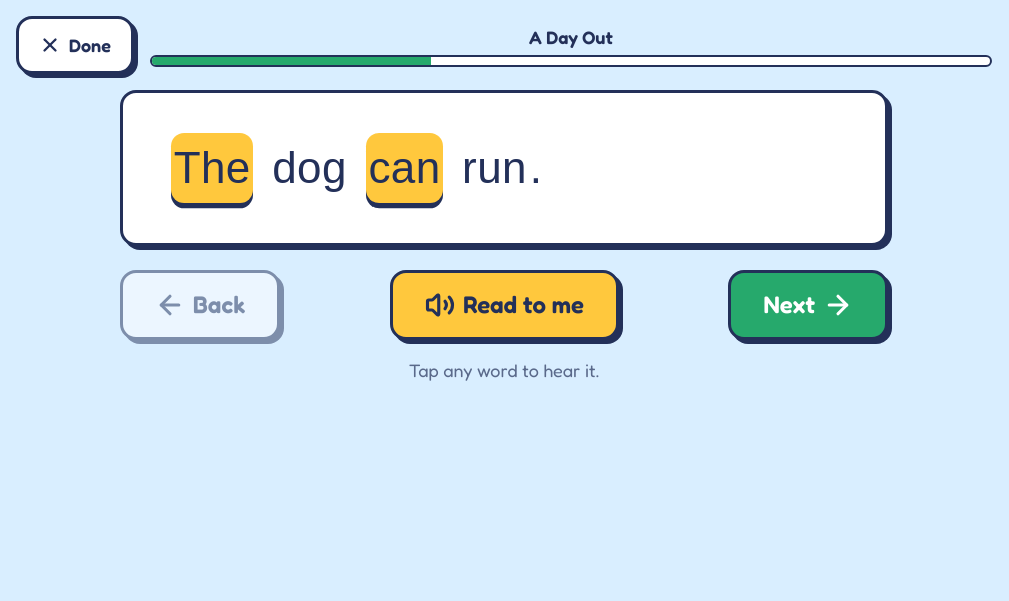
it: StoryReader › ends with "The end!", the word hunt and the grown-up actions
Click the button "Next": (808, 305) left=728, top=270, right=888, bottom=340
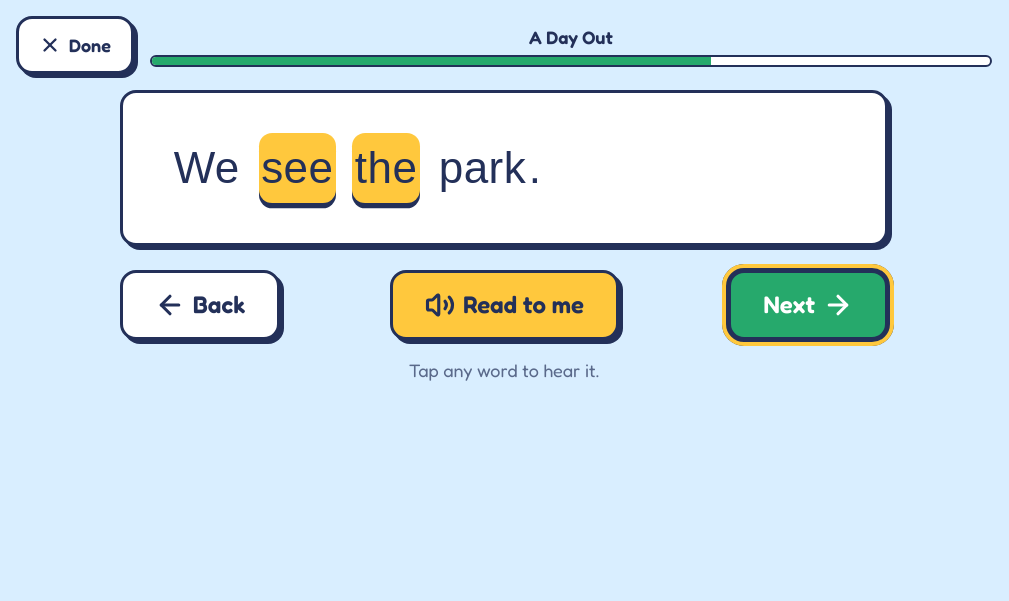
Click the button "Next": (808, 305) left=728, top=270, right=888, bottom=340
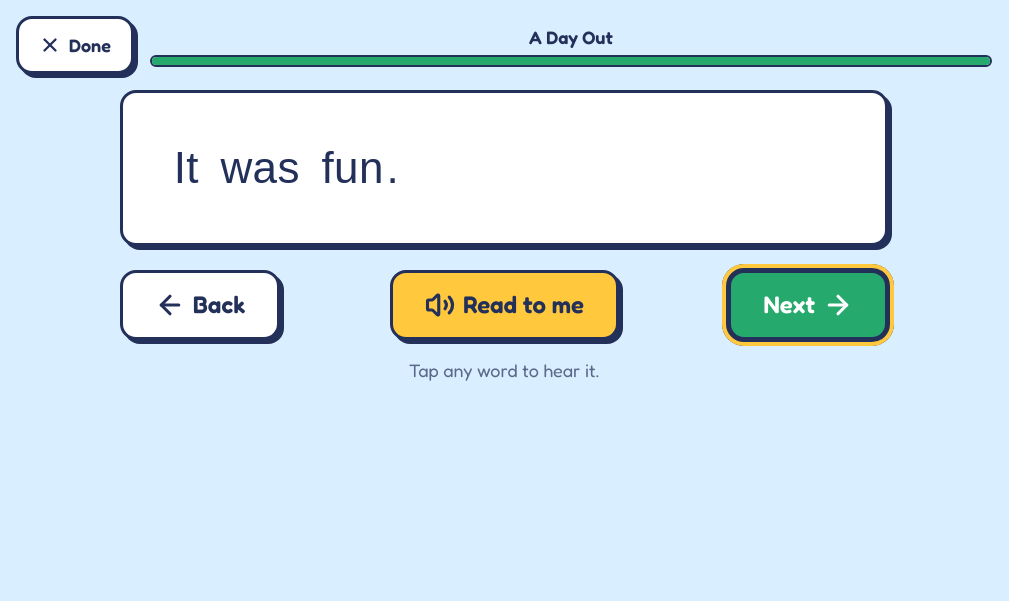
Click the button "Next": (808, 305) left=728, top=270, right=888, bottom=340
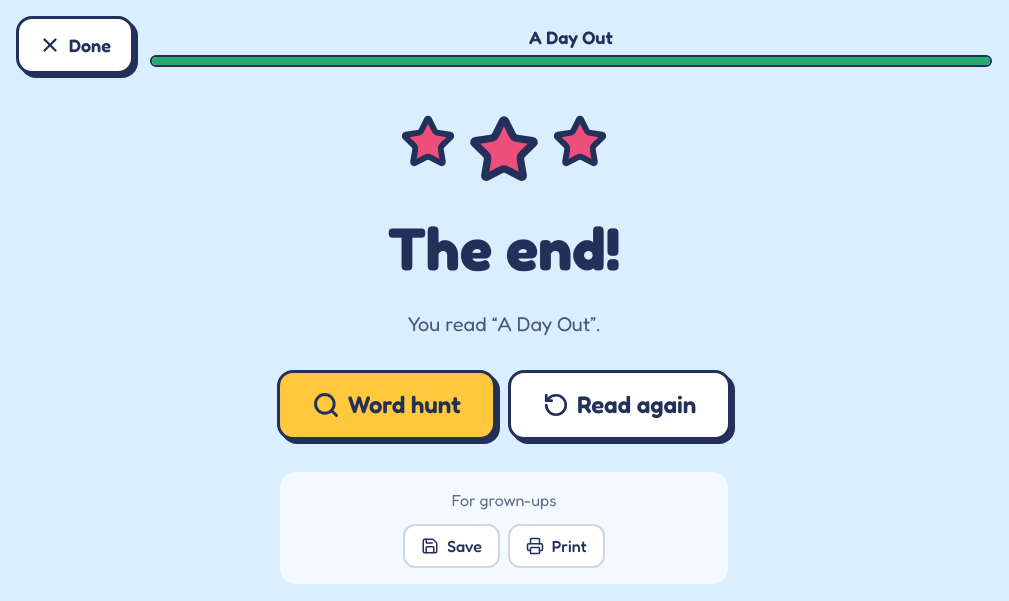
Expected: the heading "The end!" is shown, left=388, top=212, right=620, bottom=284
Click the button "Save": (452, 546) left=403, top=524, right=500, bottom=568
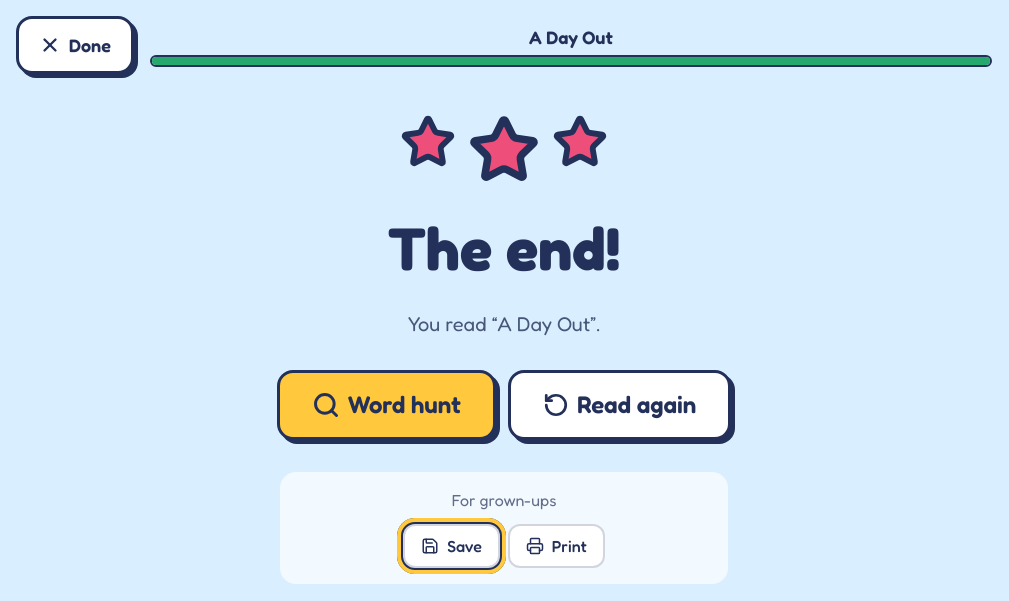
Click the button "Word hunt": (386, 405) left=277, top=370, right=496, bottom=440
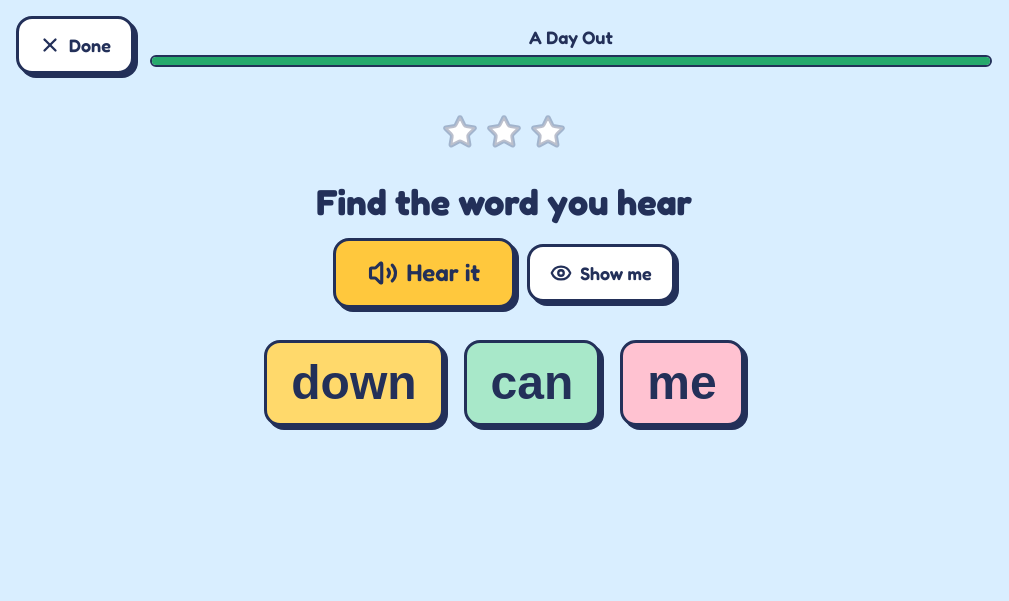
Expected: the element named "Word cards" is shown, left=264, top=340, right=744, bottom=426
